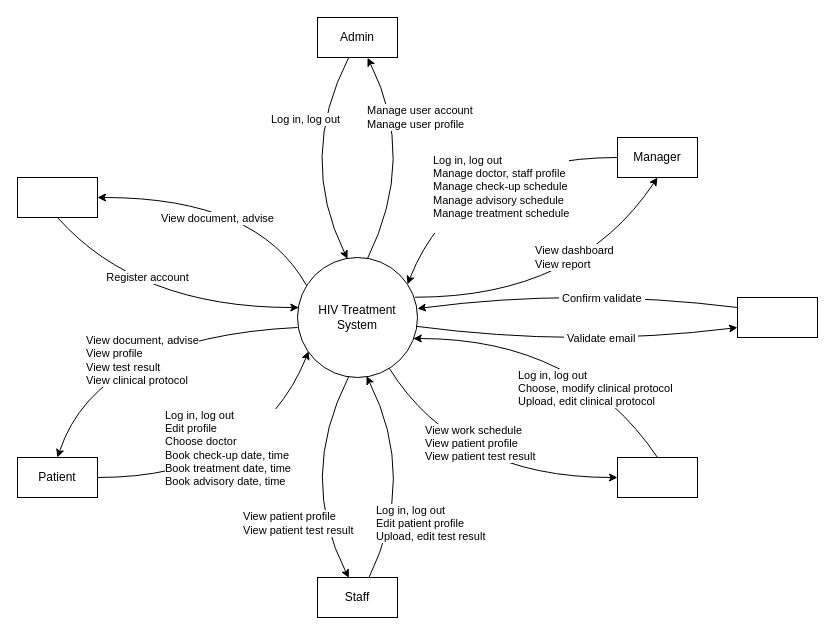
Some shapes in this 835 by 635 pixel diagram are drawn without their labels. The shapes that lost their labels are listed below. From the top down, each one's centre as x and y in pixels, then its label:
At (x=57, y=197): "Guest".
At (x=777, y=317): "Gmail system".
At (x=657, y=477): "Doctor".
